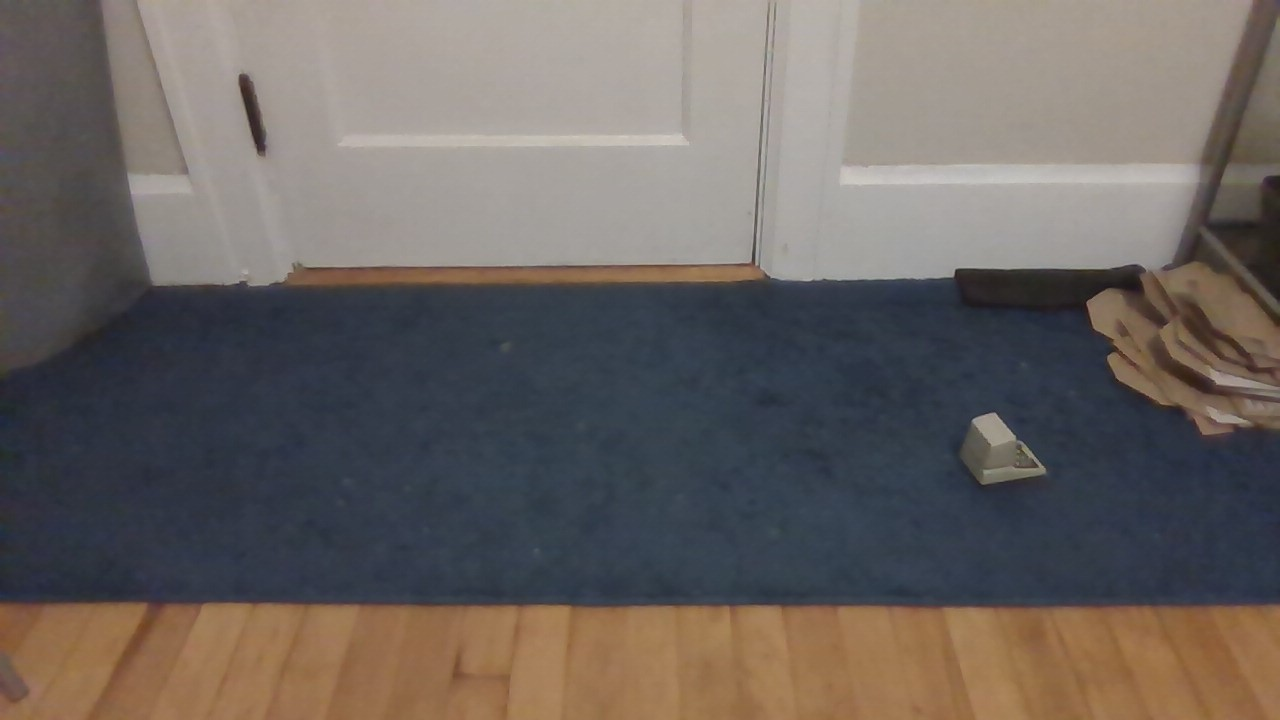Toy: (947, 398, 1048, 507)
